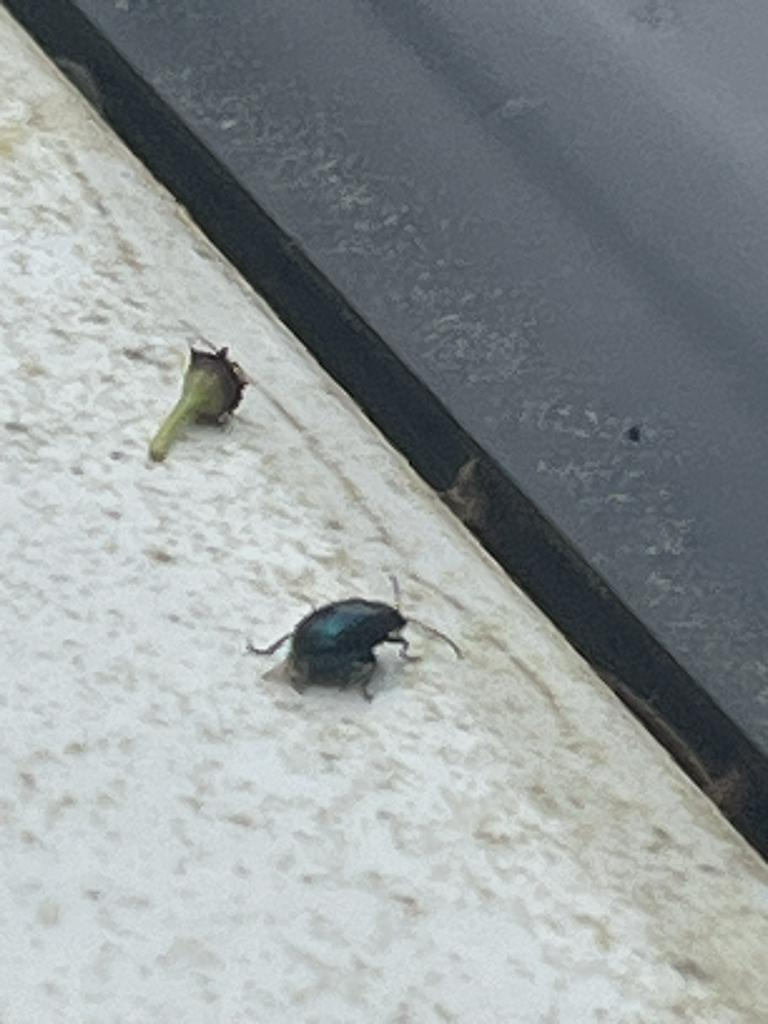flea_beetle: (220, 538, 484, 736)
